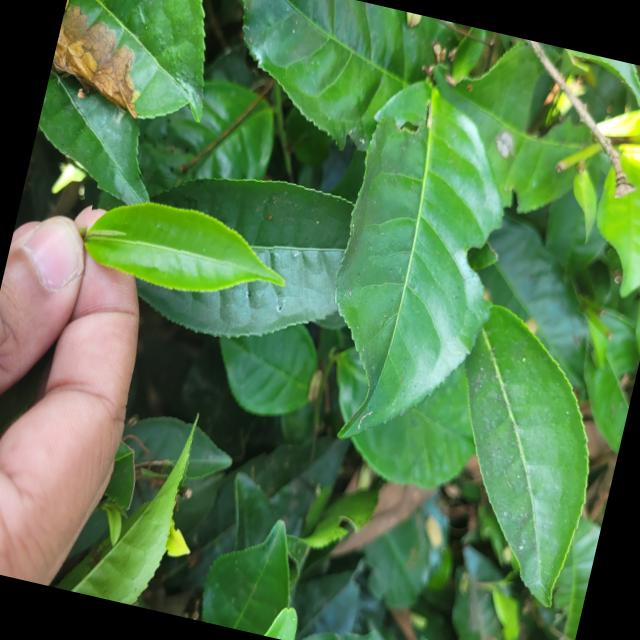Catagory A(1-2 days): (74, 160, 306, 320)
